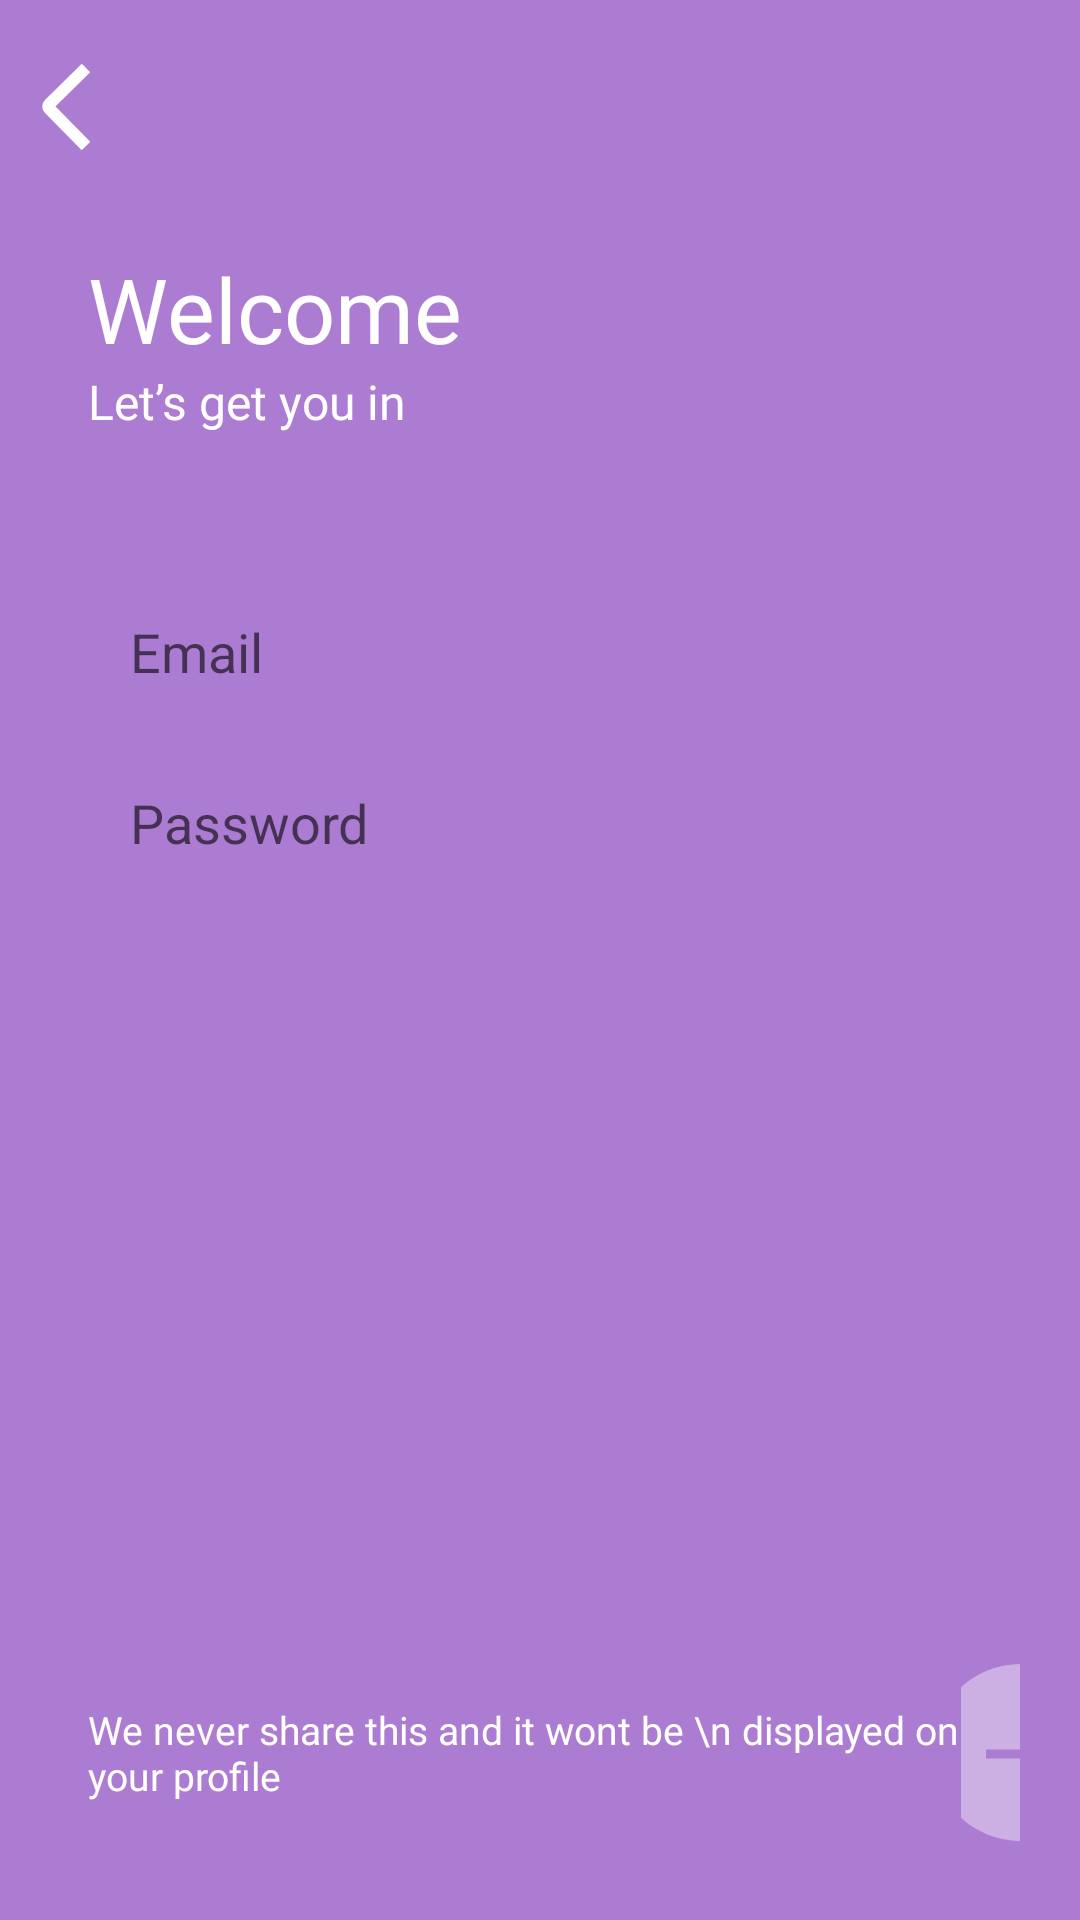

Screen size 1080px x 1920px. Icon name, then its center in pixels as point (x, y):
backbtn: point (66, 107)
